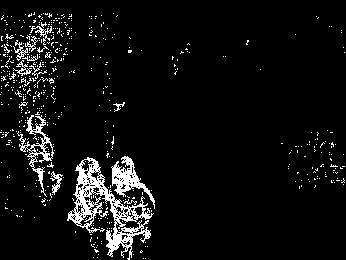person: (116, 155, 164, 260), (17, 110, 64, 207), (76, 155, 115, 255)
